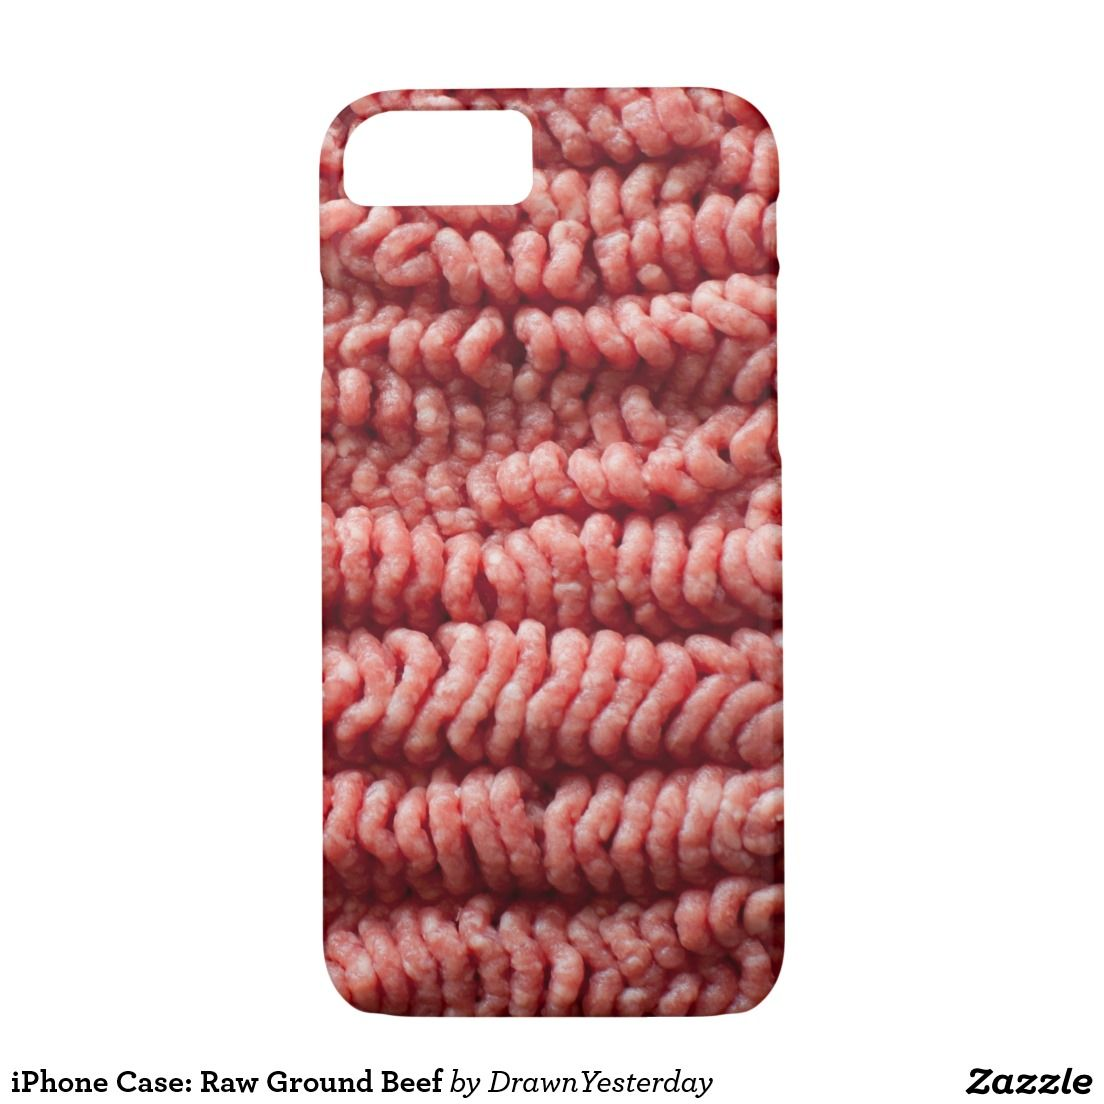ground_beef: (329, 133, 738, 987)
